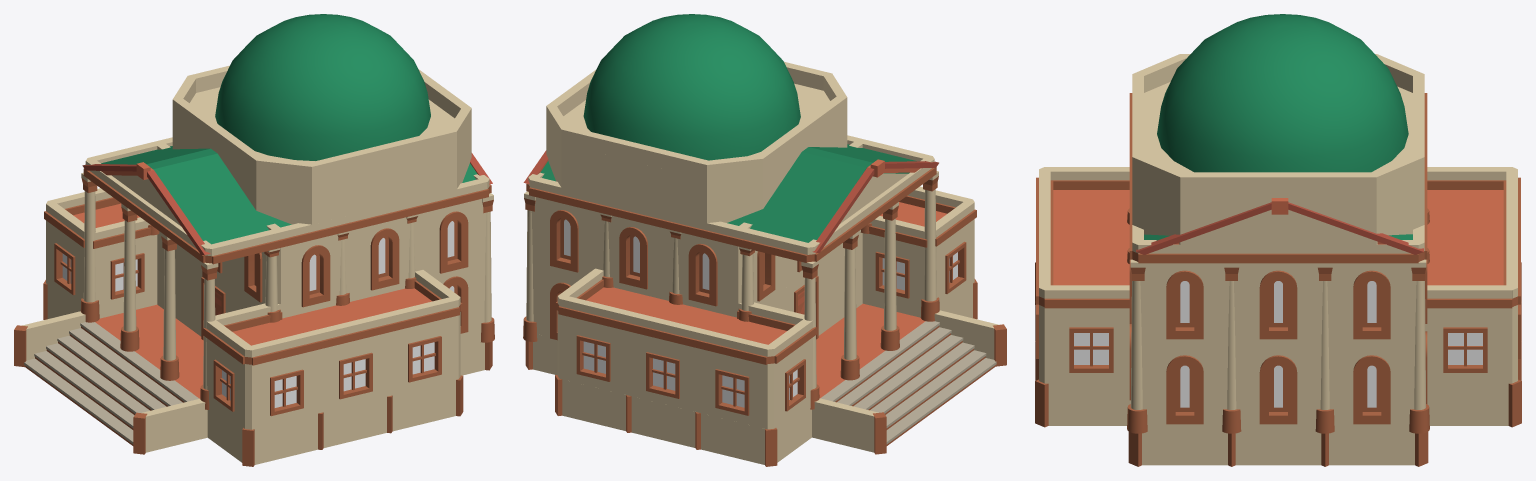
The model's file is theatre.glb.
3 views of the same model, side by side, from view 1: azimuth 30°, elevation 25°; view 2: azimuth 150°, elevation 25°; view 3: azimuth 270°, elevation 25° (orthographic). The views are drawn at different scales.
Visible parts, largest first — view 1: mergedBlocks(Clone); view 2: mergedBlocks(Clone); view 3: mergedBlocks(Clone).
Part boxes in pixels (bbox=[...]): mergedBlocks(Clone): bbox=[14, 14, 494, 466]; mergedBlocks(Clone): bbox=[523, 14, 1006, 466]; mergedBlocks(Clone): bbox=[1035, 14, 1521, 466].
Size of the model in its own units: 5.25 by 4.46 by 5.21.
Materials: 1 (1 with a texture image).
